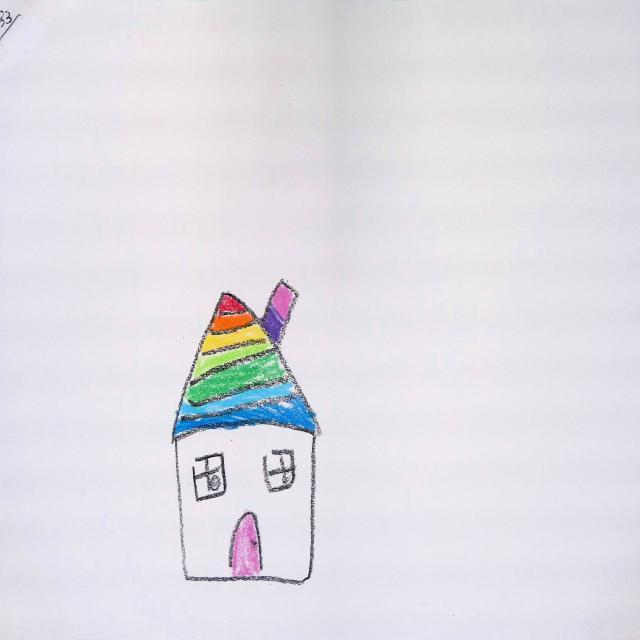chimney: (262, 282, 298, 348)
door: (229, 514, 263, 578)
house: (174, 283, 319, 585)
roof: (169, 288, 323, 443)
wall: (176, 426, 314, 585)
window: (192, 454, 226, 502), (264, 450, 296, 492)
